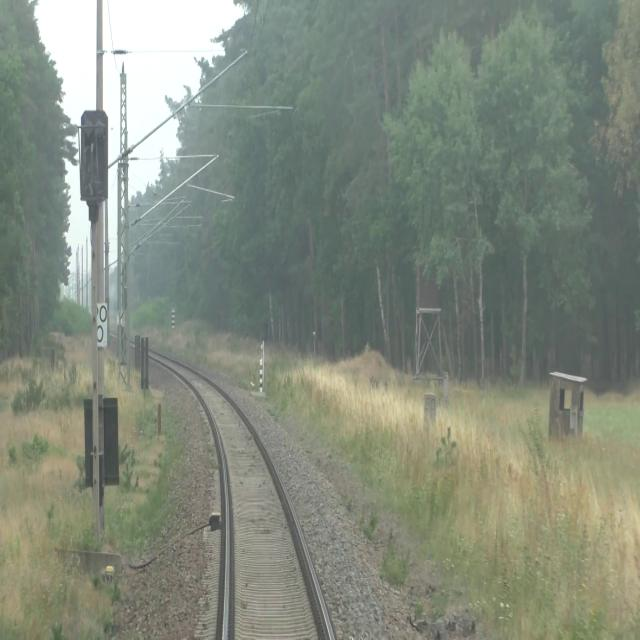rail-track: (165, 359, 329, 639)
